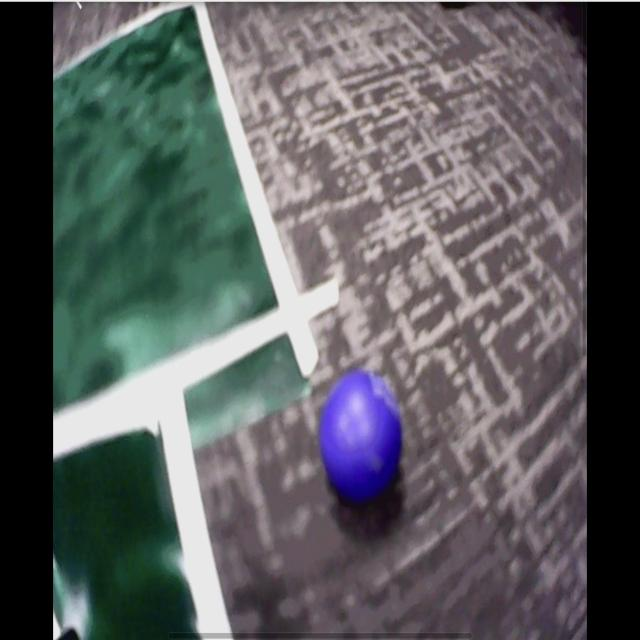ball: (320, 374, 402, 496)
